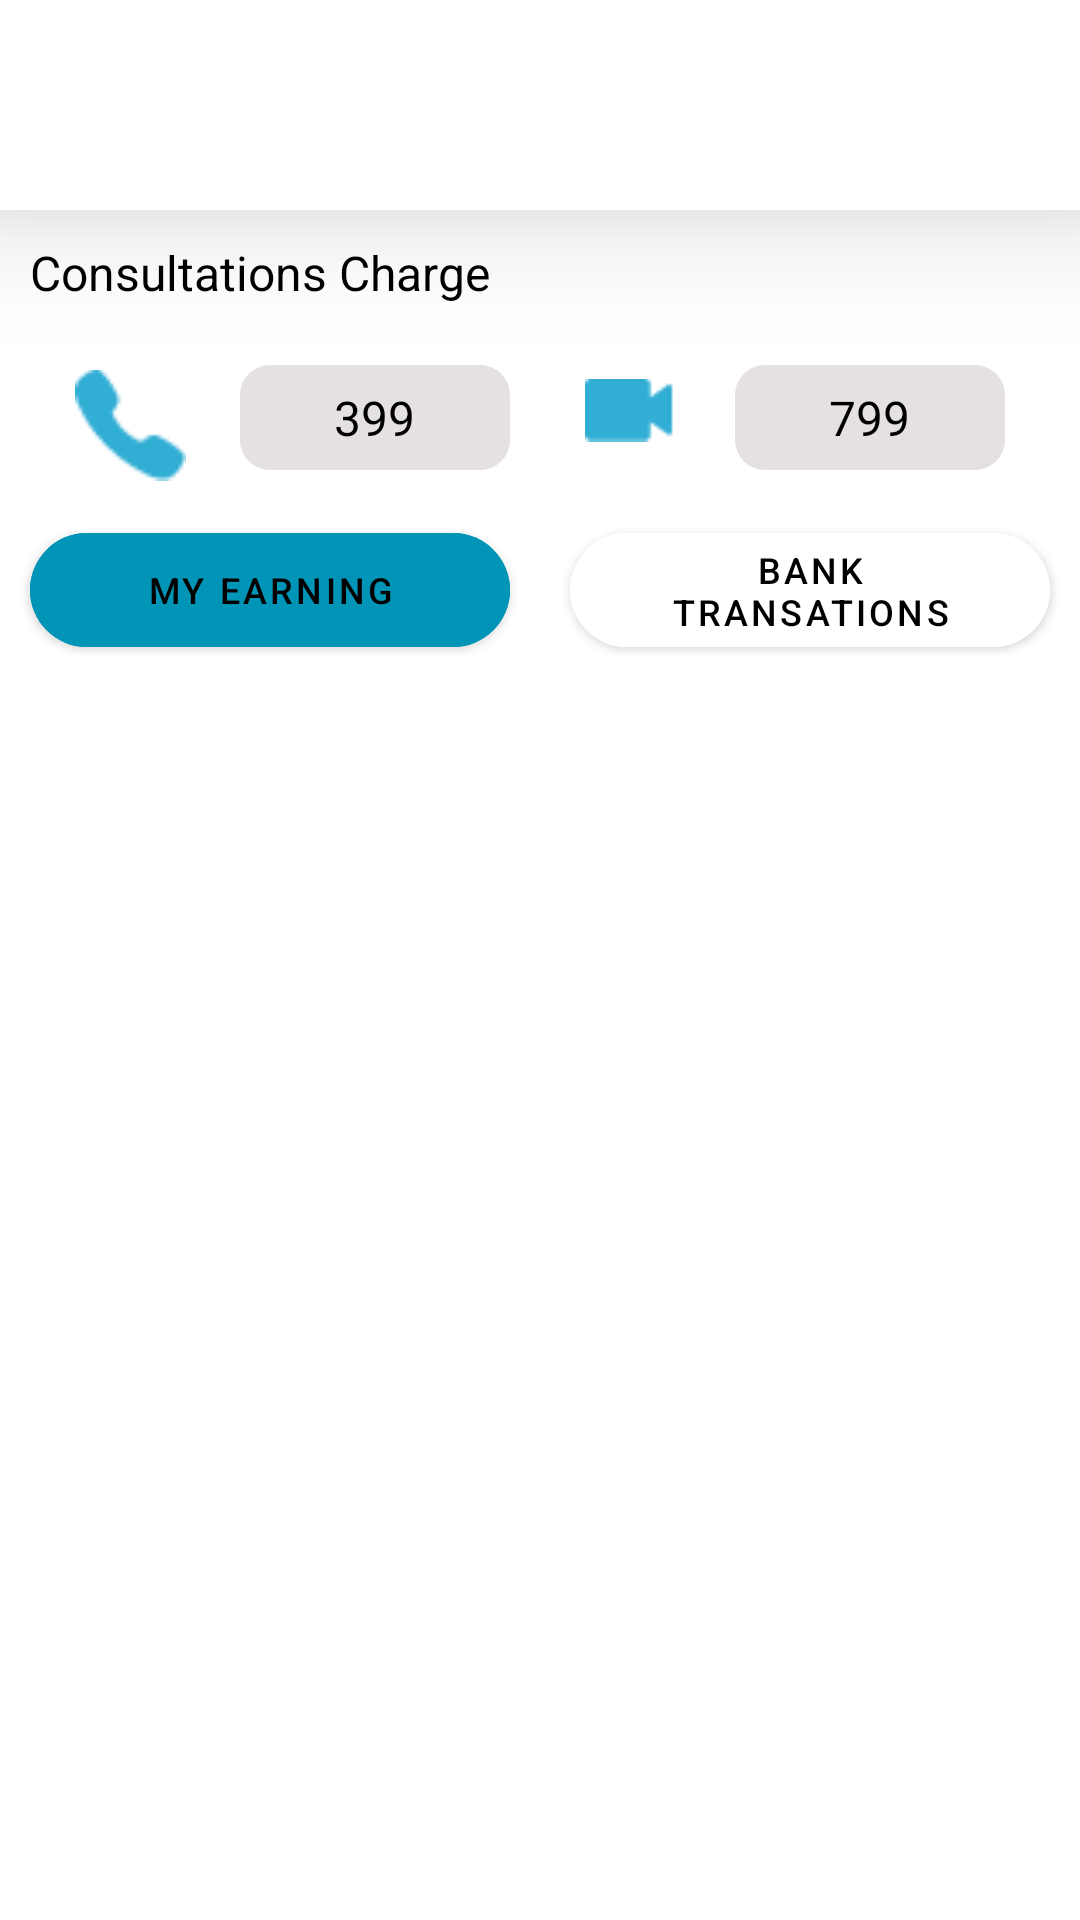

Icons on this 1080 × 1920 Android screen, each with its box as (x1, y1, x2, y2):
bluecallbtn: (75, 370, 186, 481)
bluevc: (585, 379, 673, 442)
